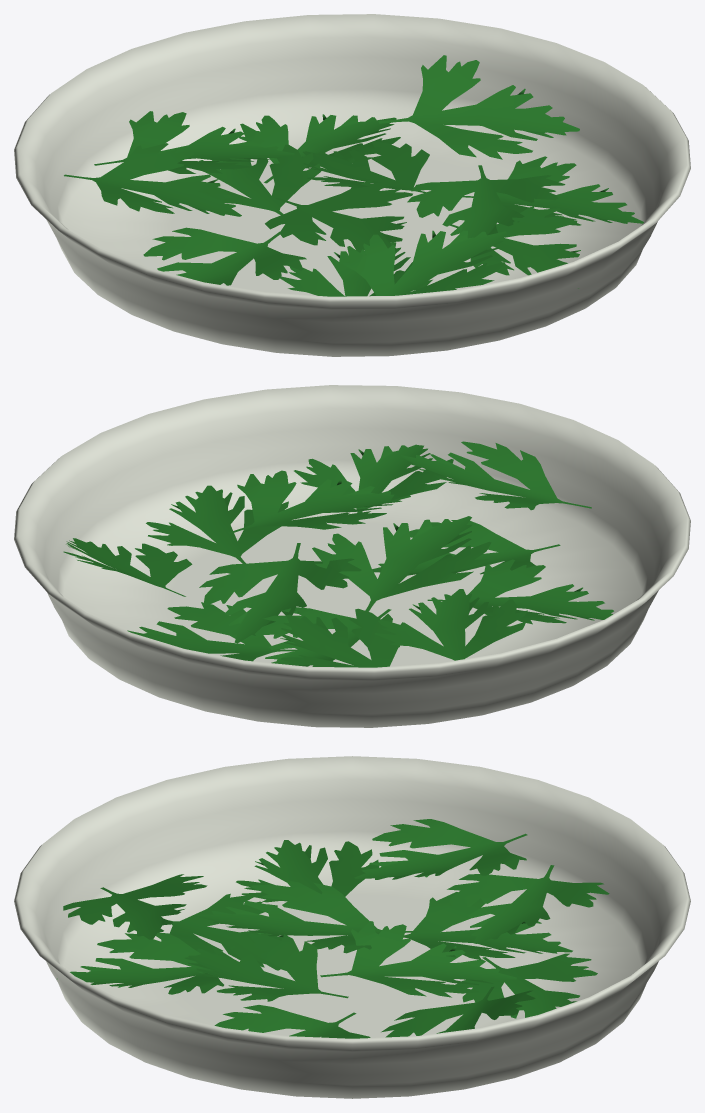
The model's file is Parsley.fbx.
The picture shows the model from 3 angles, top to bottom: view 1: azimuth 30°, elevation 25°; view 2: azimuth 150°, elevation 25°; view 3: azimuth 270°, elevation 25°; orthographic projection.
Visible parts, largest first — view 1: 9_parsley; view 2: 9_parsley; view 3: 9_parsley.
Boxes of the visible parts, x1,y1,x2,y2 form: 9_parsley: [14, 14, 690, 356]; 9_parsley: [14, 385, 690, 727]; 9_parsley: [14, 756, 690, 1098].
Bounding box in the file's own units: 21.01 × 2.65 × 21.01.
